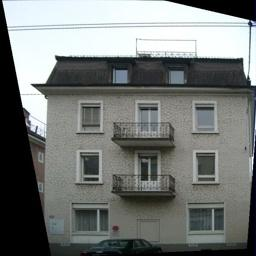building: (41, 45, 256, 256)
